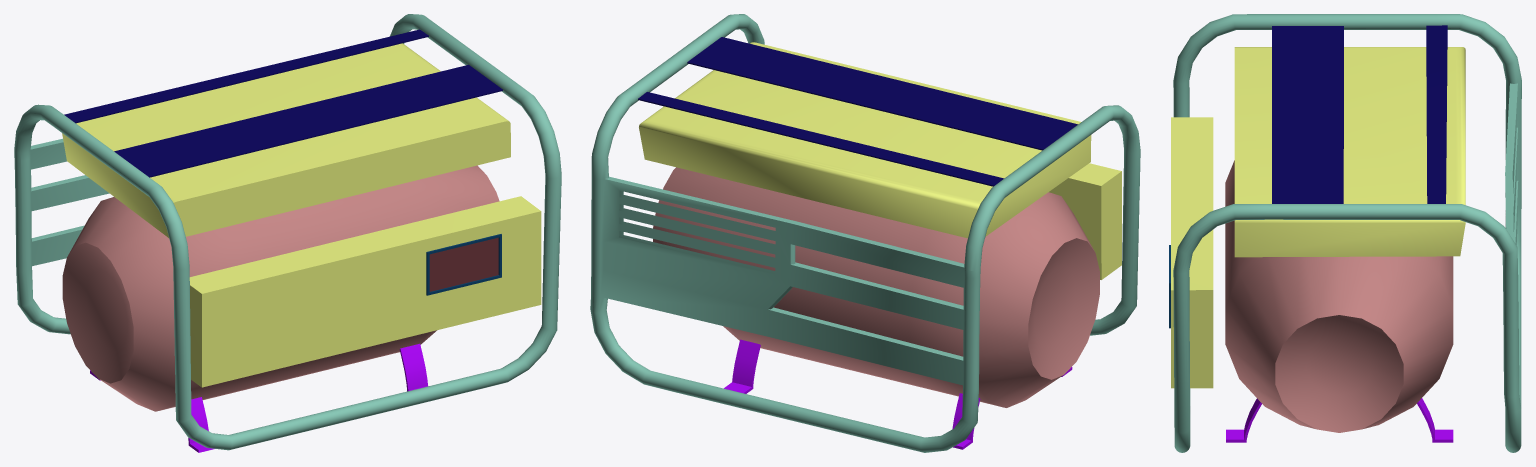
Rendered from generateur v2.fbx.
The picture shows the model from 3 angles, left to right: view 1: azimuth 30°, elevation 25°; view 2: azimuth 150°, elevation 25°; view 3: azimuth 270°, elevation 25°; orthographic projection. The views are drawn at different scales.
Visible parts, largest first — view 1: rond; view 2: rond; view 3: rond.
Boxes of the visible parts, box(x1,y1,x2,y2) form: rond: box(14, 14, 561, 452); rond: box(590, 14, 1140, 452); rond: box(1169, 14, 1521, 452).
Size of the model in its own units: 131 by 88.37 by 98.61.
